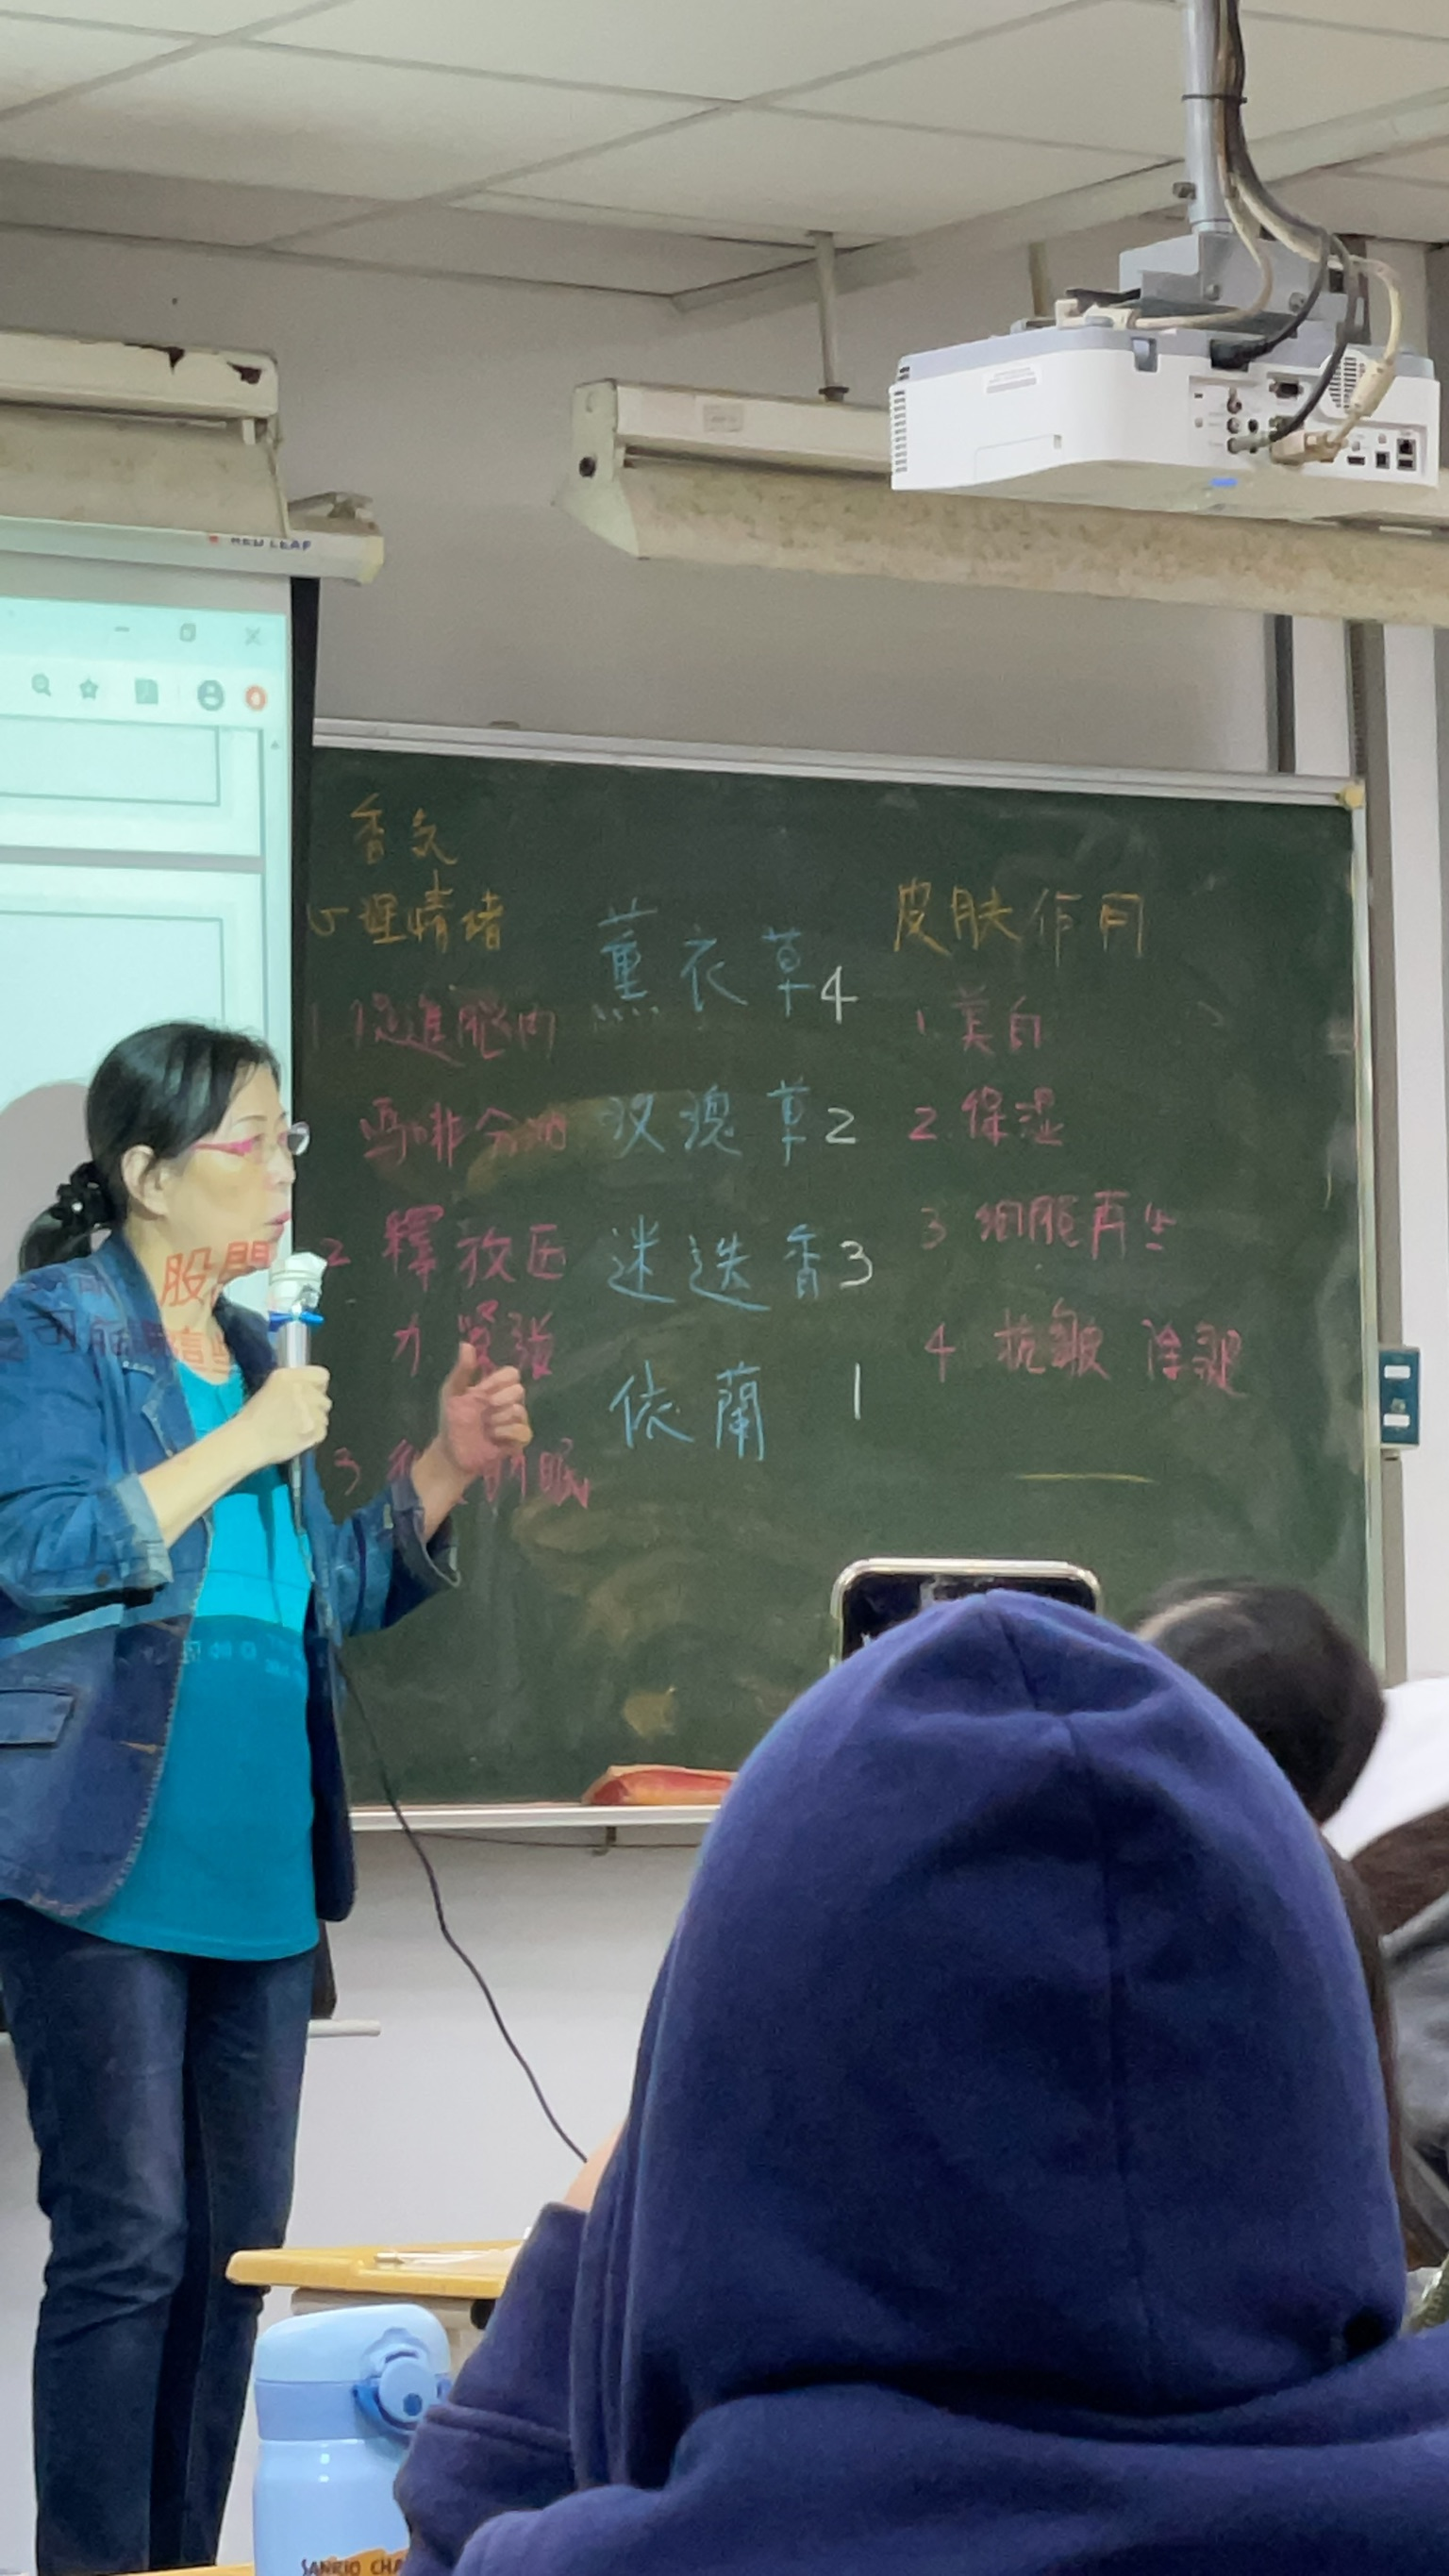people: (398, 1593, 1449, 2576), (5, 1027, 538, 2576), (1087, 1568, 1444, 2311)
